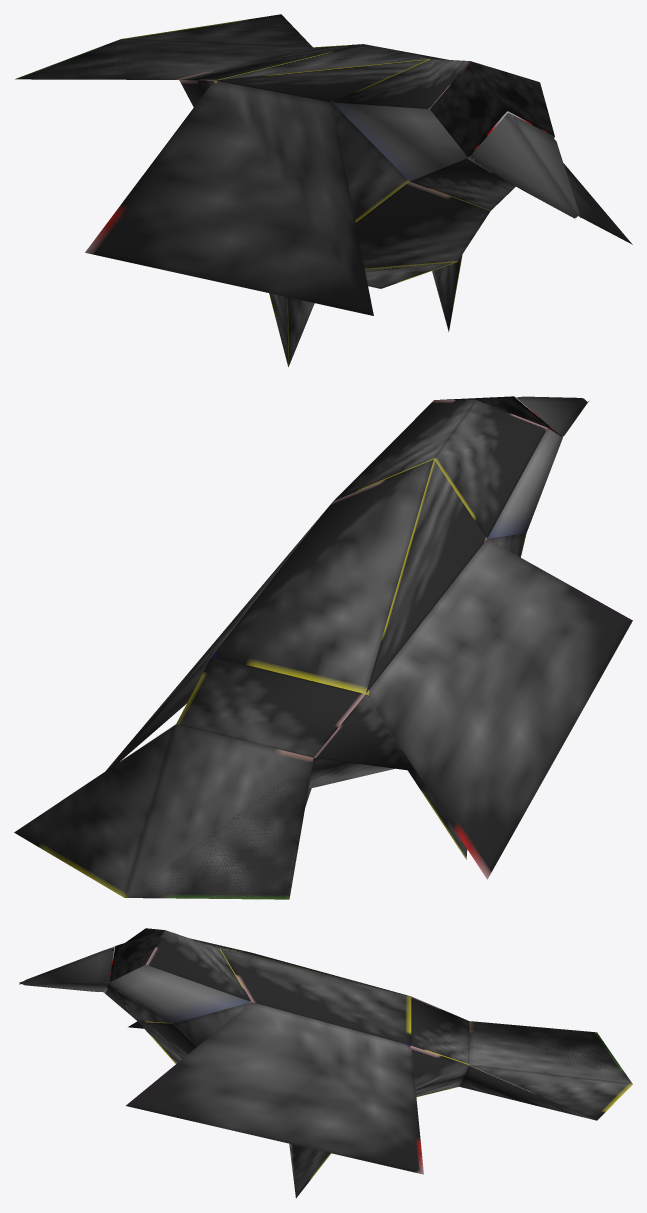
The picture shows the model from 3 angles, top to bottom: view 1: azimuth 30°, elevation 25°; view 2: azimuth 150°, elevation 25°; view 3: azimuth 270°, elevation 25°; orthographic projection. The views are drawn at different scales.
Parts seen in each view (by area): view 1: T1L2M009_17; view 2: T1L2M009_17; view 3: T1L2M009_17.
Boxes of the visible parts, x1=… form: T1L2M009_17: x1=15, y1=14, x2=632, y2=366; T1L2M009_17: x1=14, y1=396, x2=632, y2=899; T1L2M009_17: x1=19, y1=928, x2=632, y2=1198.
Bounding box in the file's own units: 0.0934 × 0.0855 × 0.1966.
